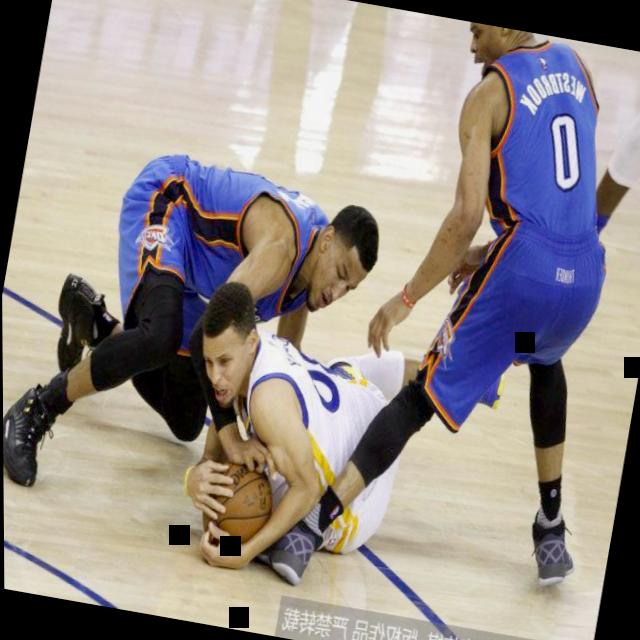Fall-Detected: (144, 279, 469, 612)
